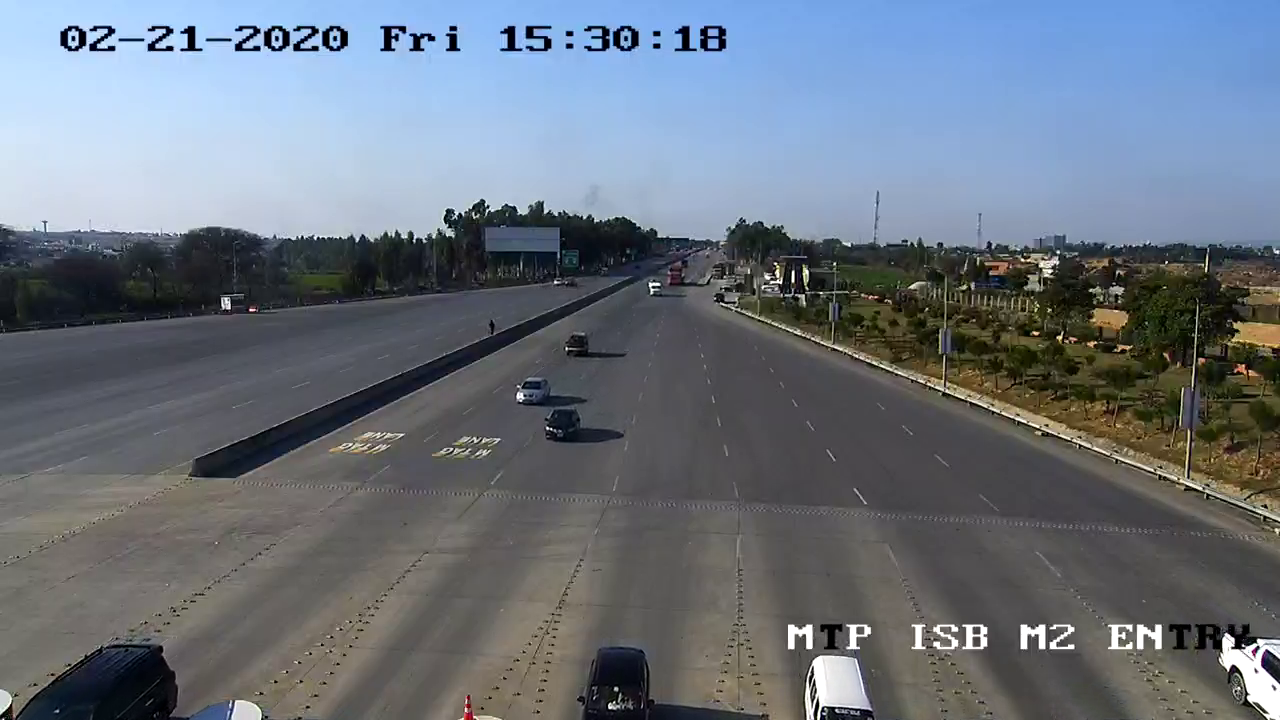f1: (539, 399, 596, 453), (508, 368, 555, 415)
